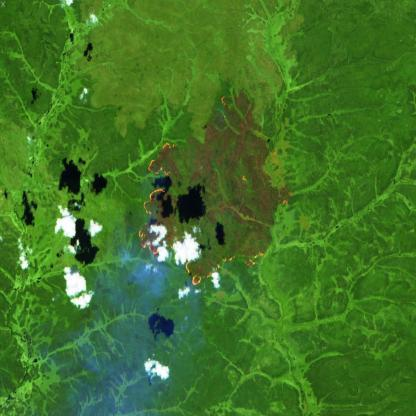fire: (137, 135, 182, 265), (183, 244, 273, 297), (280, 182, 294, 210), (218, 90, 228, 112)
